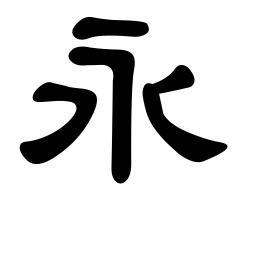D: (70, 15, 151, 42)
HSZ: (105, 46, 137, 78)
Hs: (65, 45, 99, 69)
Ne: (179, 134, 231, 166)
PNc: (140, 81, 164, 110)
PZe: (18, 138, 59, 166)
Ps: (170, 62, 197, 91)
SG: (102, 158, 135, 185)
Sm: (109, 103, 134, 135)
TPZ: (70, 84, 98, 121)
Ts: (30, 79, 61, 103)
